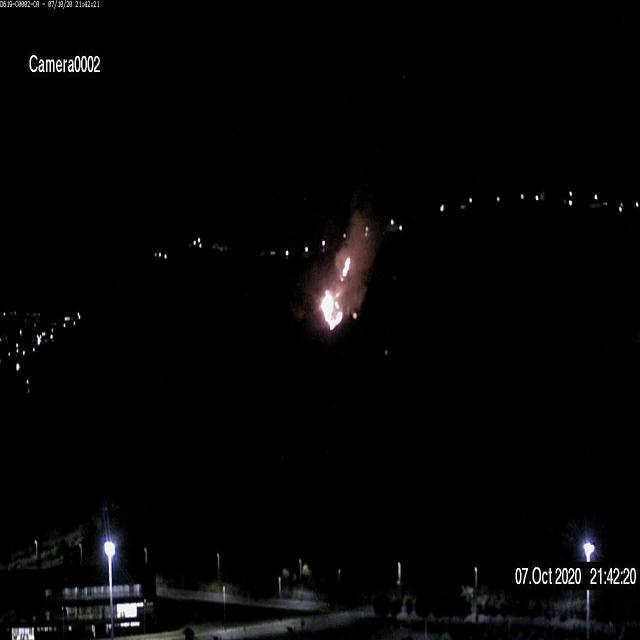Fire: (319, 254, 353, 326), (318, 289, 342, 330), (340, 253, 352, 279)
Smoke: (296, 207, 378, 334)
